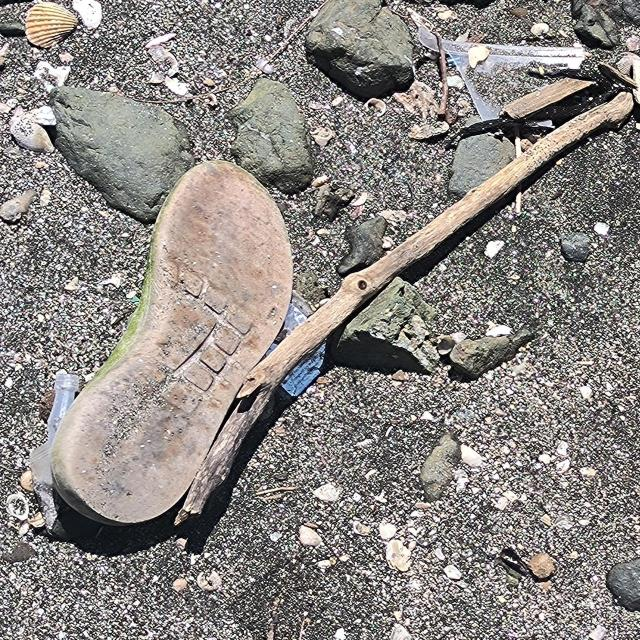rubber_waste: (49, 160, 297, 529)
